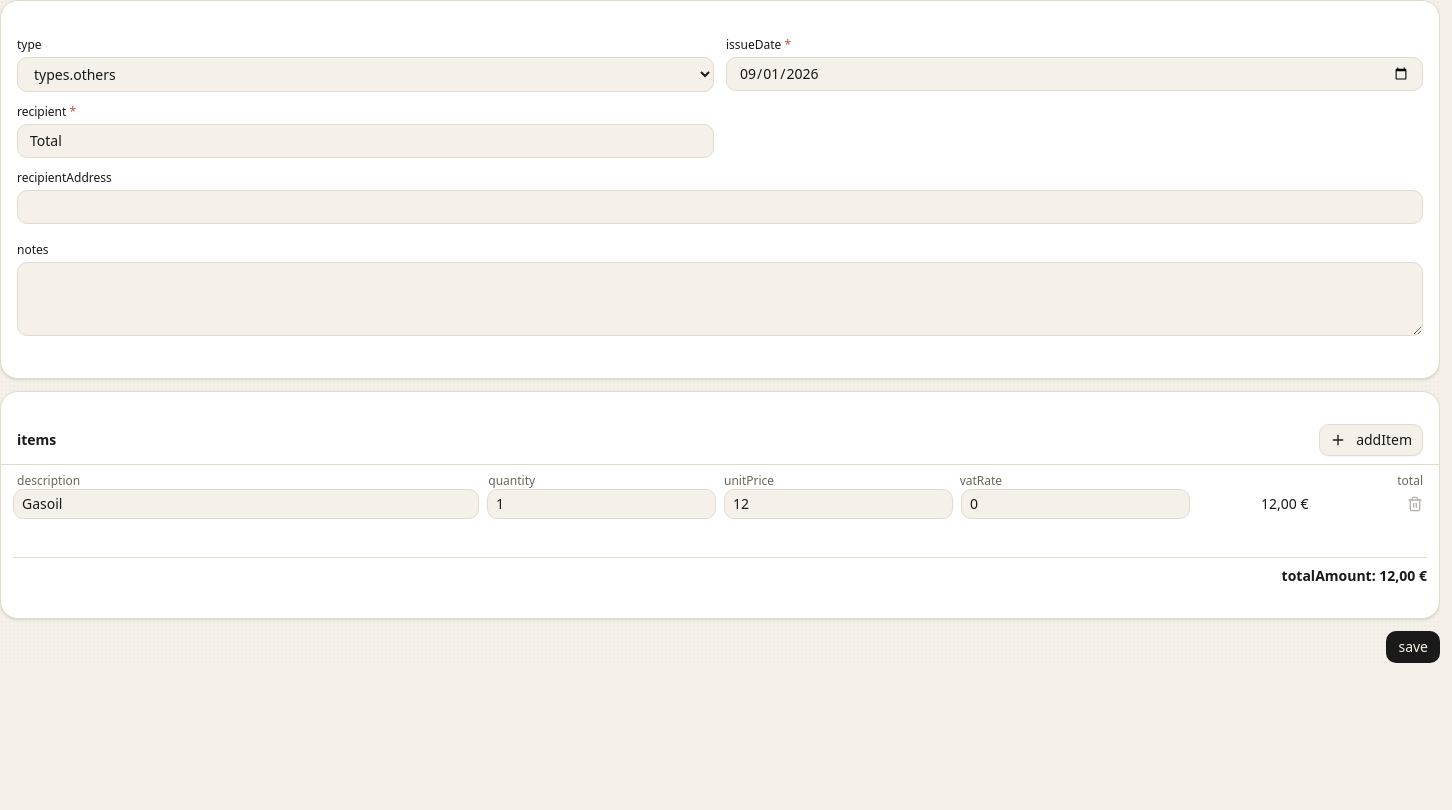
Scenario: InvoiceForm — decimal line figures › leaves a cleared field empty and asks for a number instead of saving 0
Clear the field named "unitPrice". click: (838, 504)
box: [724,489,953,519]
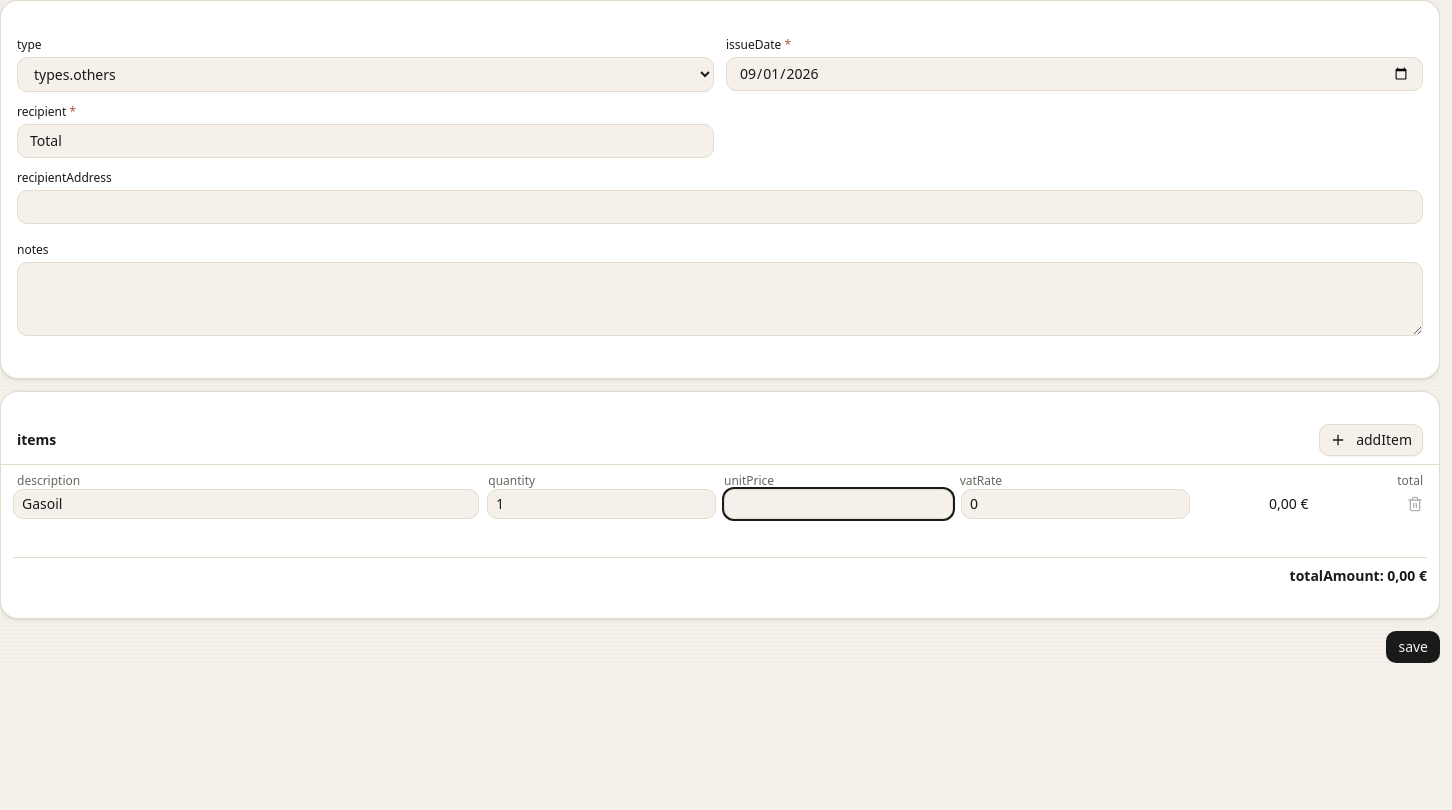
Submit the form
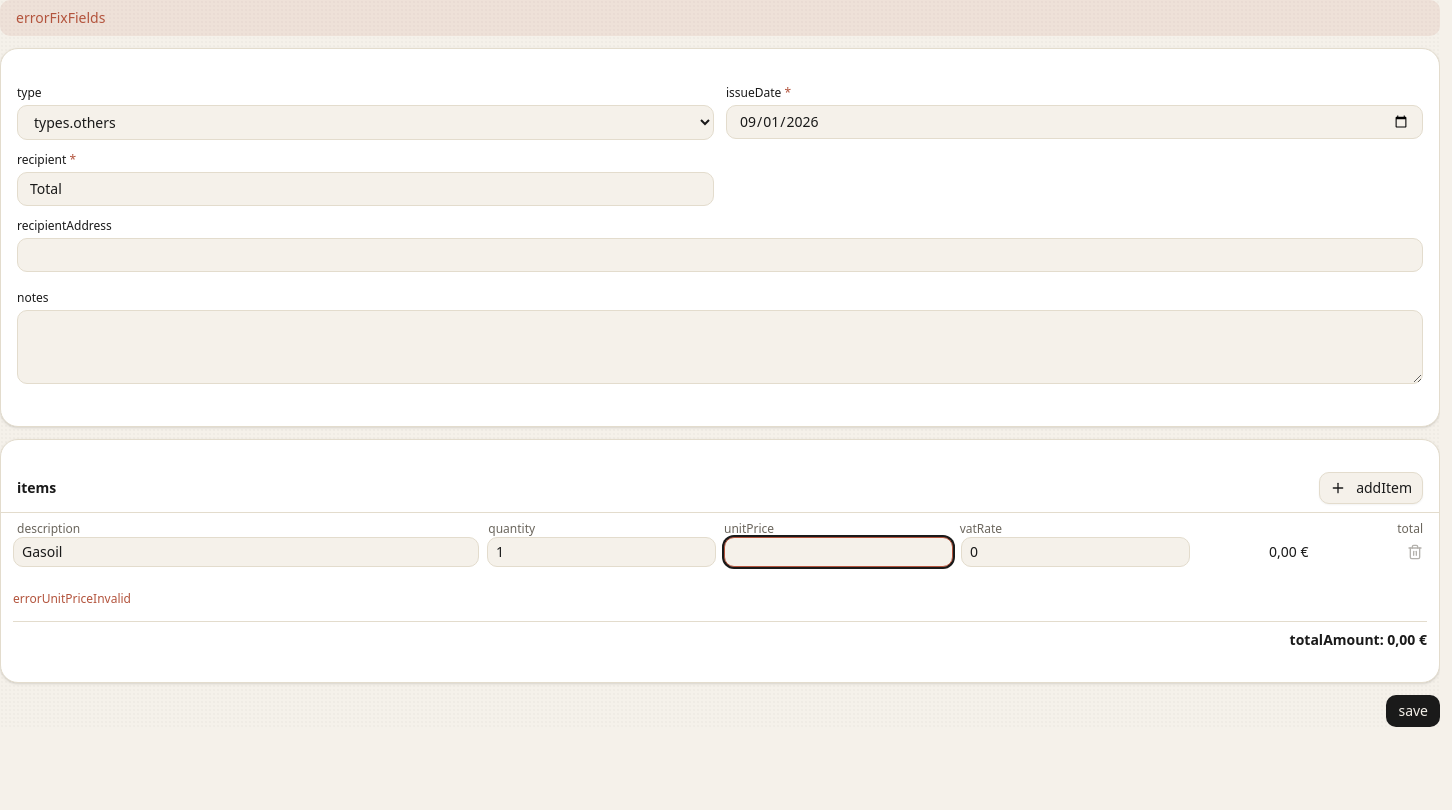
Result: the text "errorUnitPriceInvalid" is shown at [13,590,131,607]
